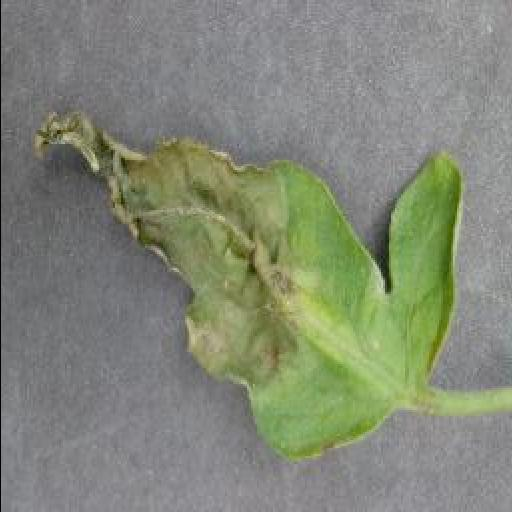disease_tomato: (30, 110, 470, 462)
